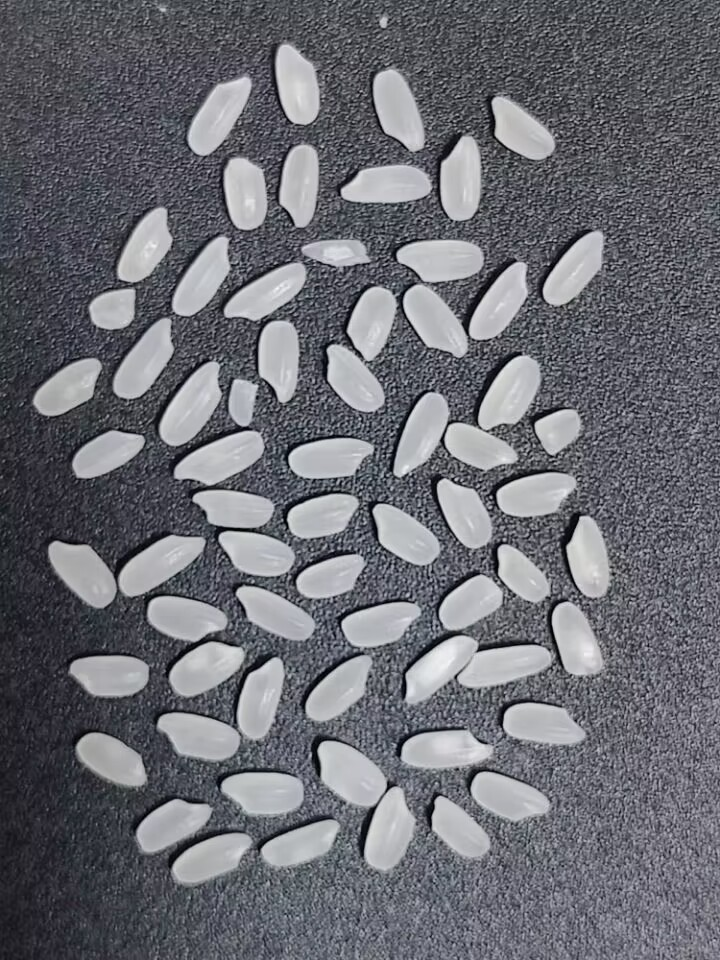broken: (534, 408, 582, 455), (88, 288, 137, 331), (300, 239, 371, 268), (227, 377, 259, 428)
rice: (179, 67, 256, 158), (115, 529, 209, 602), (215, 259, 313, 327), (158, 353, 225, 448), (167, 230, 234, 321), (166, 429, 269, 488), (109, 314, 178, 402), (386, 388, 452, 480), (108, 198, 177, 285), (398, 281, 471, 363), (312, 738, 394, 811), (228, 580, 318, 646), (540, 227, 608, 314), (400, 630, 477, 706), (167, 828, 254, 895), (42, 538, 117, 615), (126, 796, 216, 860), (466, 257, 533, 342), (151, 710, 245, 770), (366, 498, 444, 569), (474, 352, 544, 431), (359, 779, 416, 875), (453, 640, 558, 692), (367, 67, 429, 155), (30, 350, 104, 423), (299, 653, 372, 727), (429, 473, 495, 554), (470, 765, 556, 827), (333, 159, 438, 209), (545, 599, 608, 682), (66, 731, 154, 790), (434, 130, 488, 226), (256, 816, 342, 876), (323, 339, 388, 417), (269, 41, 325, 131), (233, 653, 289, 743), (165, 639, 247, 700), (210, 767, 306, 819), (393, 233, 487, 284), (65, 427, 147, 485), (441, 417, 522, 475), (486, 94, 553, 164), (395, 725, 499, 770), (343, 285, 400, 367), (564, 511, 615, 602), (215, 527, 299, 582), (498, 700, 591, 749), (140, 594, 232, 643), (281, 435, 378, 481), (62, 651, 153, 700), (250, 318, 301, 405), (273, 139, 320, 233), (219, 150, 271, 234), (490, 469, 579, 518), (283, 488, 365, 540), (335, 598, 428, 643), (435, 573, 504, 633), (492, 542, 551, 611), (187, 488, 278, 532), (431, 795, 490, 859), (290, 550, 367, 599)
